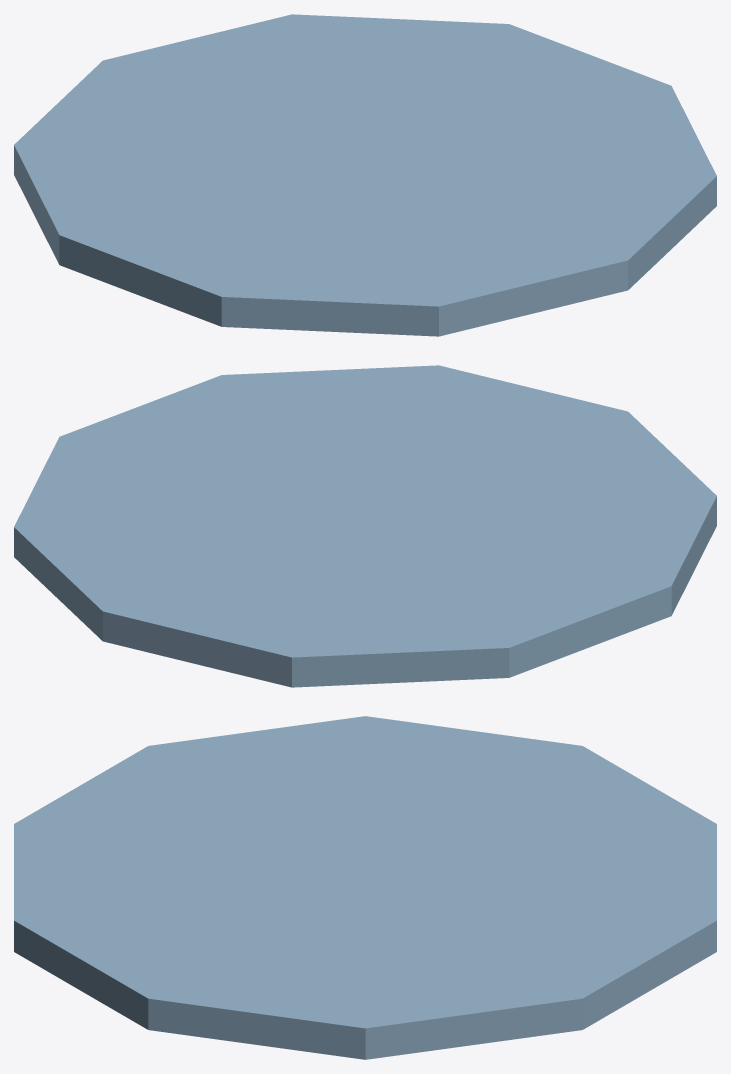
The model's file is toiletseatlid.fbx.
3 renders of one model, top to bottom at view 1: azimuth 30°, elevation 25°; view 2: azimuth 150°, elevation 25°; view 3: azimuth 270°, elevation 25°, orthographic. The views are drawn at different scales.
Parts seen in each view (by area): view 1: pCylinder1; view 2: pCylinder1; view 3: pCylinder1.
Part boxes in pixels (left/top/right/bottom): pCylinder1: left=14, top=14, right=716, bottom=336; pCylinder1: left=14, top=365, right=716, bottom=687; pCylinder1: left=14, top=716, right=716, bottom=1059.
Bounding box in the file's own units: 6.4 × 0.3 × 6.09.
